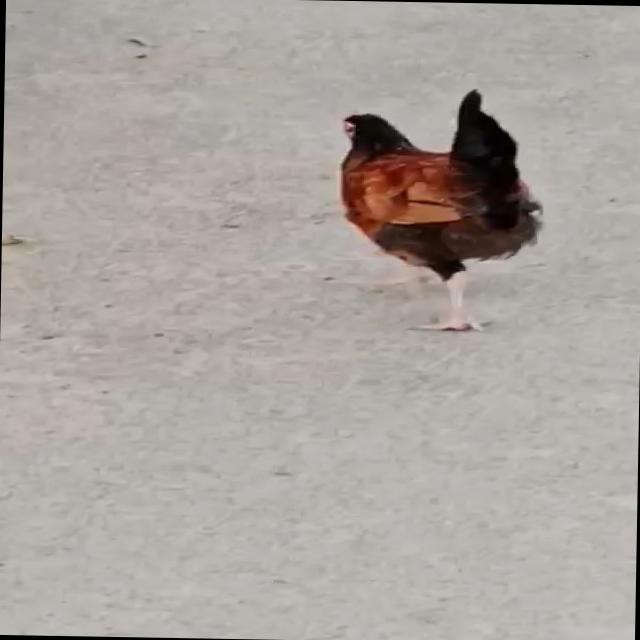walking: (295, 90, 545, 340)
